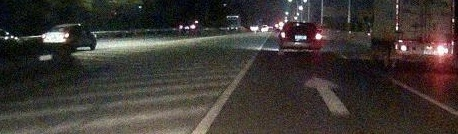L_light: (280, 32, 286, 38), (41, 34, 46, 38)
R_light: (315, 34, 321, 40), (64, 33, 69, 38)
T_light: (60, 26, 66, 28), (298, 23, 304, 25)
night-no: (279, 21, 321, 55), (41, 24, 72, 51)
